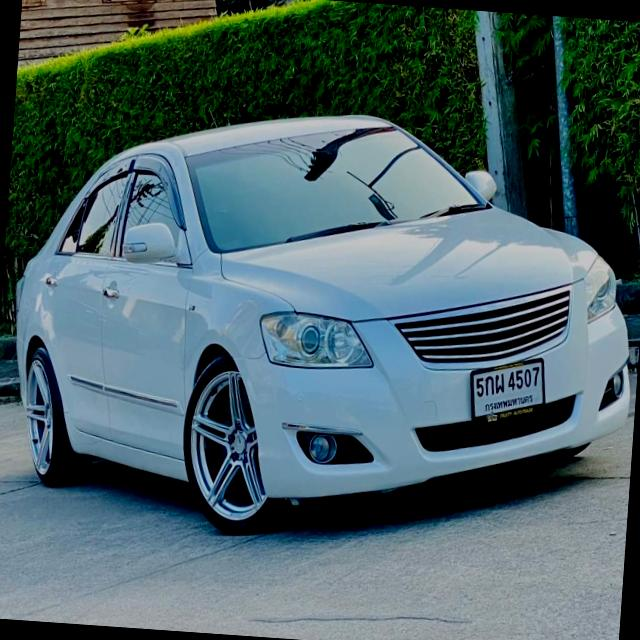license_plate: (465, 346, 550, 429)
